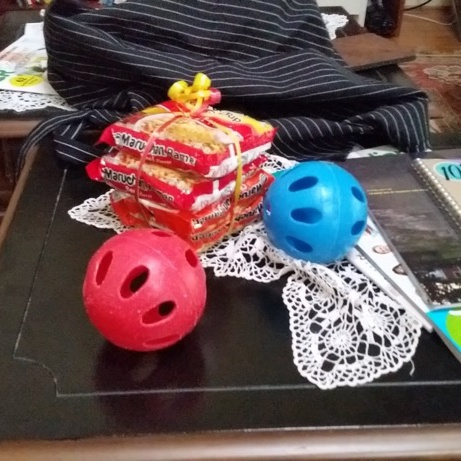ball: (76, 226, 211, 355), (262, 160, 370, 265)
